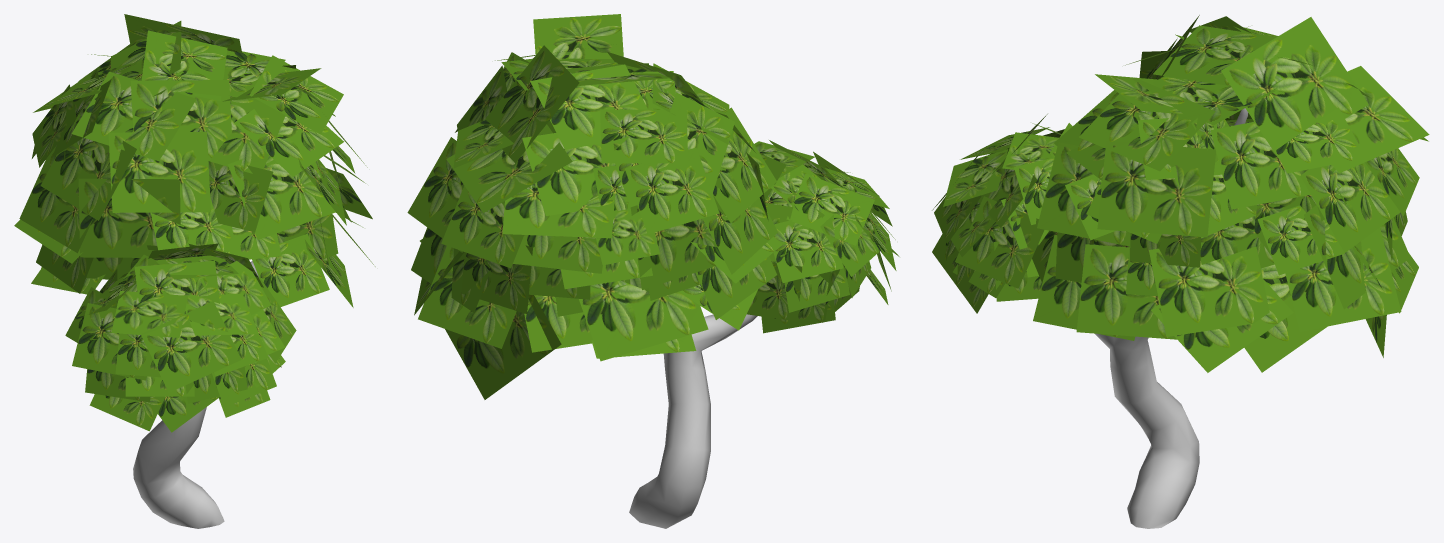
File: tree.FBX
3 views of the same model, side by side, from view 1: azimuth 30°, elevation 25°; view 2: azimuth 150°, elevation 25°; view 3: azimuth 270°, elevation 25° (orthographic). The views are drawn at different scales.
Visible parts, largest first — view 1: tree01_low; view 2: tree01_low; view 3: tree01_low.
Part boxes in pixels (x1=…): tree01_low: x1=14, y1=14, x2=375, y2=528; tree01_low: x1=407, y1=14, x2=899, y2=528; tree01_low: x1=932, y1=15, x2=1429, y2=528.
Size of the model in its own units: 49.79 by 58.58 by 53.09.
